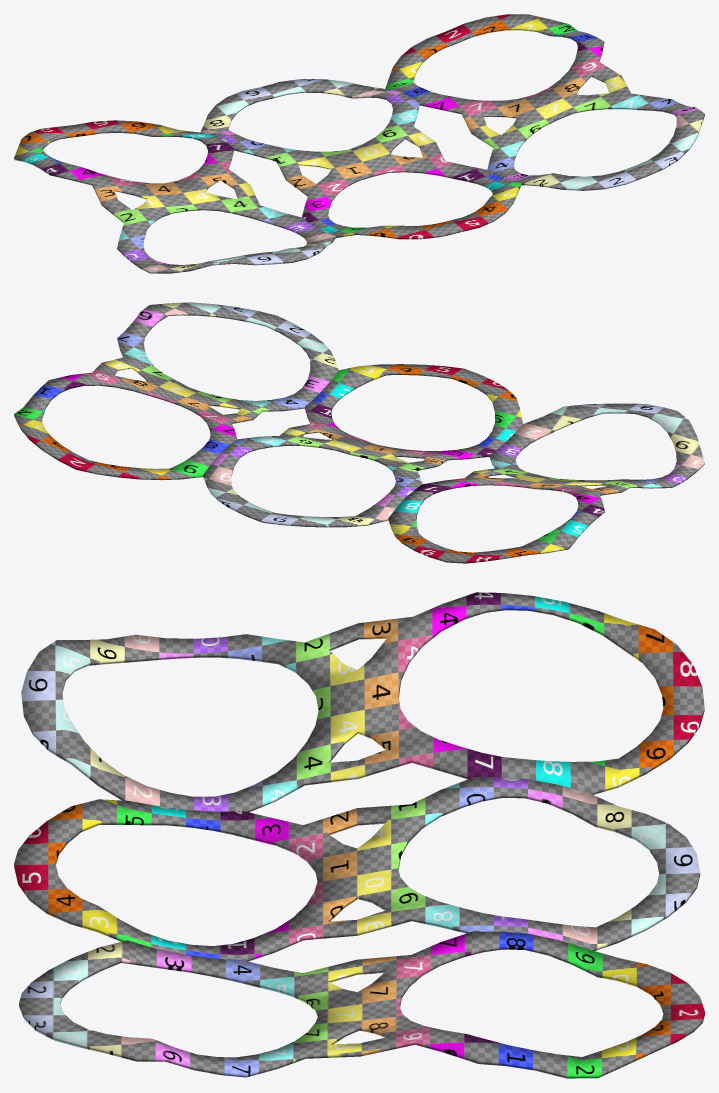
The model's file is sixpack2.fbx.
The picture shows the model from 3 angles, top to bottom: view 1: azimuth 30°, elevation 25°; view 2: azimuth 150°, elevation 25°; view 3: azimuth 270°, elevation 25°; orthographic projection. The views are drawn at different scales.
Parts seen in each view (by area): view 1: Six pack 1.002; view 2: Six pack 1.002; view 3: Six pack 1.002.
Boxes of the visible parts, left/top/right/bottom form: Six pack 1.002: left=14, top=14, right=704, bottom=273; Six pack 1.002: left=14, top=302, right=704, bottom=563; Six pack 1.002: left=14, top=592, right=704, bottom=1078.
Bounding box in the file's own units: 575 × 42.66 × 364.
1 material, 1 textured.
